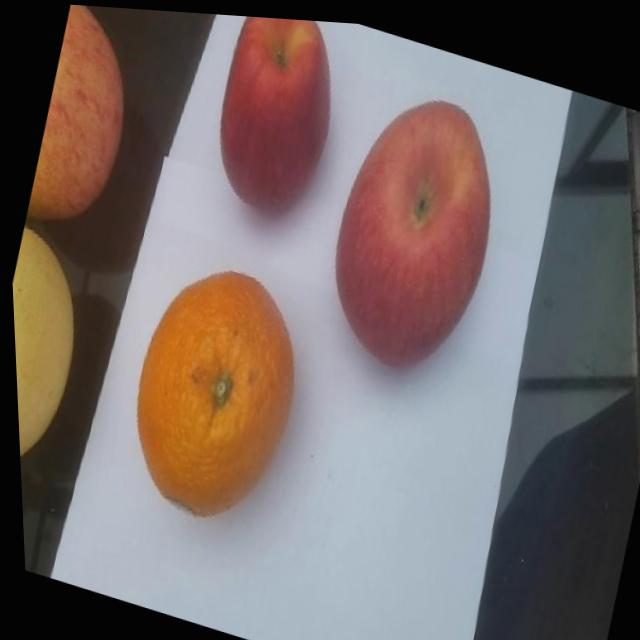Apple: (302, 67, 521, 384), (194, 10, 358, 223), (16, 1, 154, 241)
Orange: (102, 241, 320, 536)
